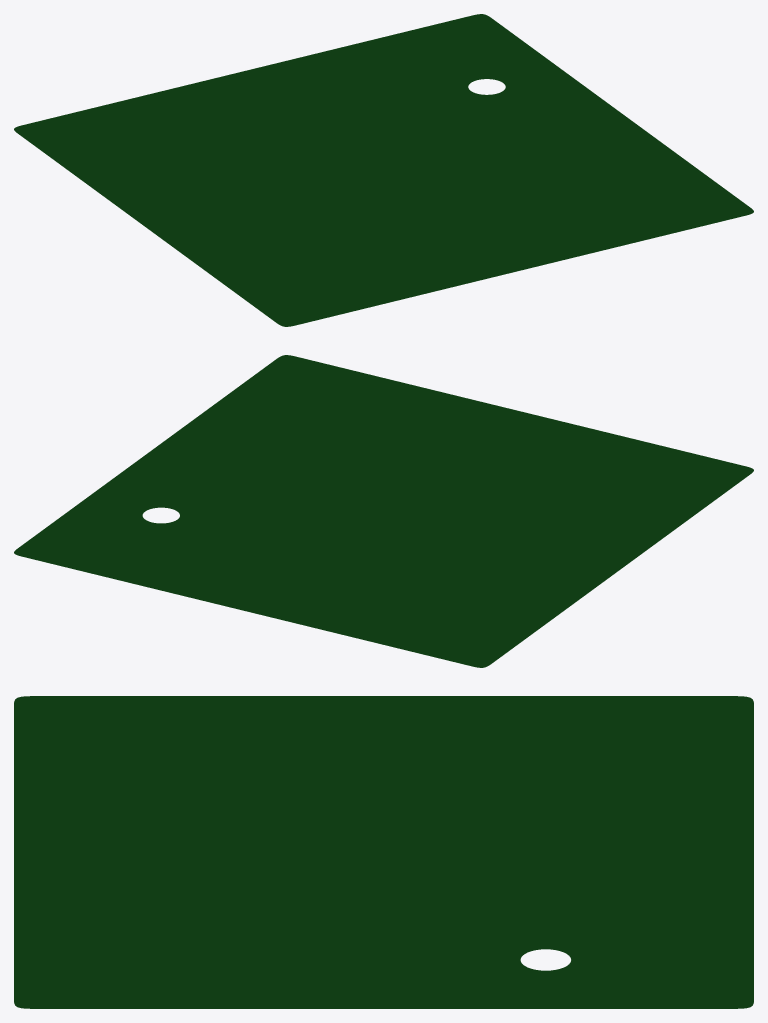
Rendered from greenplane.fbx.
3 renders of one model, top to bottom at view 1: azimuth 30°, elevation 25°; view 2: azimuth 150°, elevation 25°; view 3: azimuth 270°, elevation 25°, orthographic. The views are drawn at different scales.
Parts seen in each view (by area): view 1: Plane; view 2: Plane; view 3: Plane.
Part boxes in pixels (x1,y1,x2,y2): Plane: [14, 14, 753, 326]; Plane: [14, 355, 753, 667]; Plane: [14, 696, 753, 1008].
Bounding box in the file's own units: 1408 × 0.000229 × 1408.
